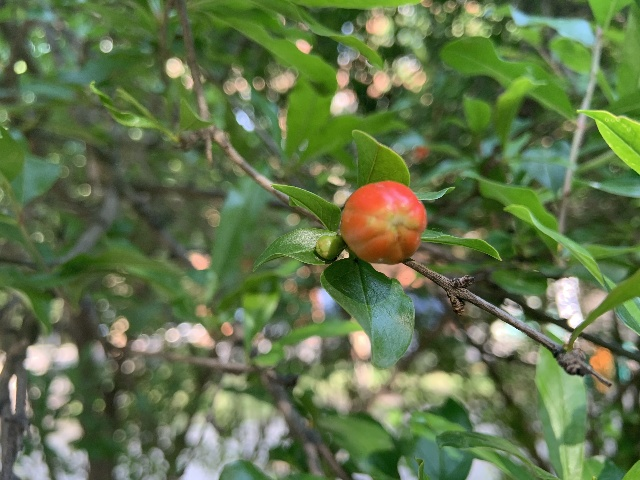bud: (340, 180, 426, 265)
